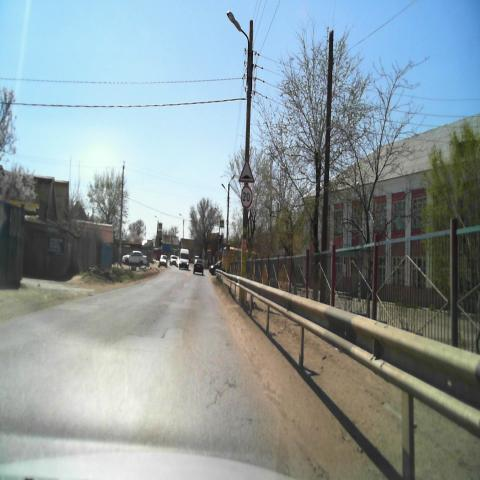1_17: (239, 158, 254, 183)
